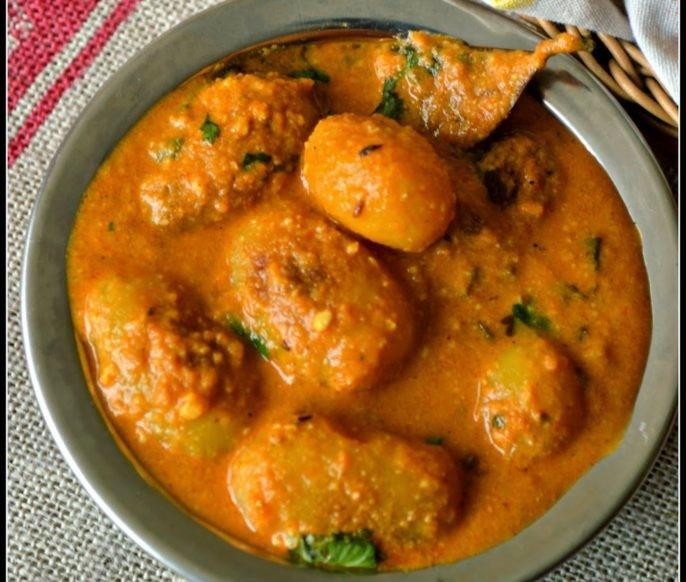DumAloo: (68, 27, 652, 570)
